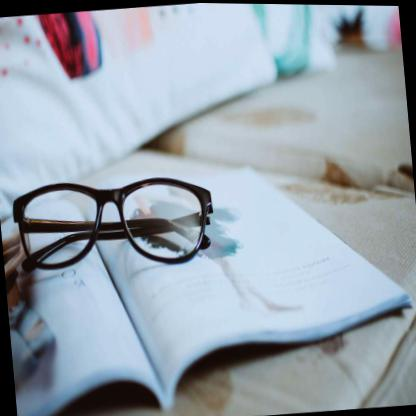Spectacles: (9, 167, 218, 279)
